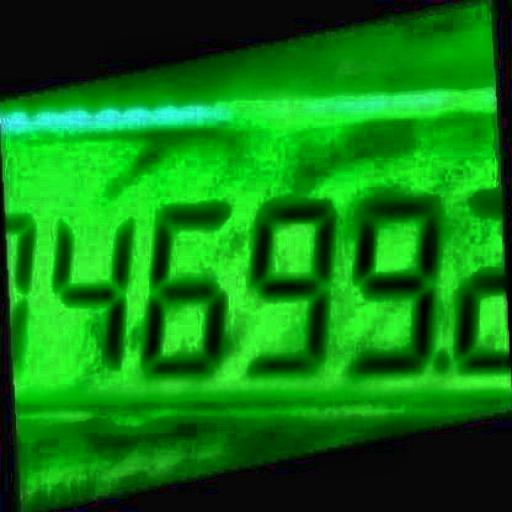DISPLAY_REGION: (0, 77, 511, 422)
SERIAL_REGION: (8, 191, 511, 390)
